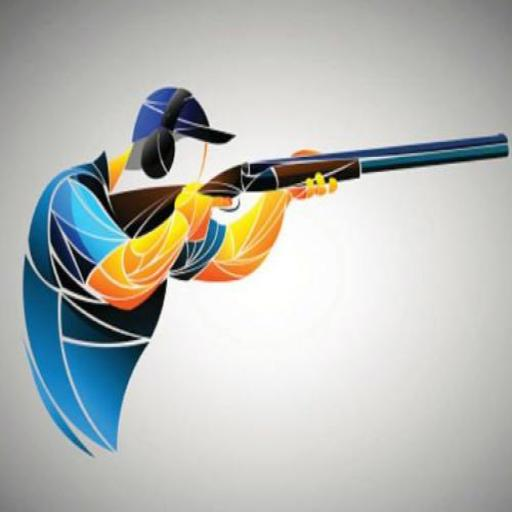shooting: (17, 82, 511, 461)
